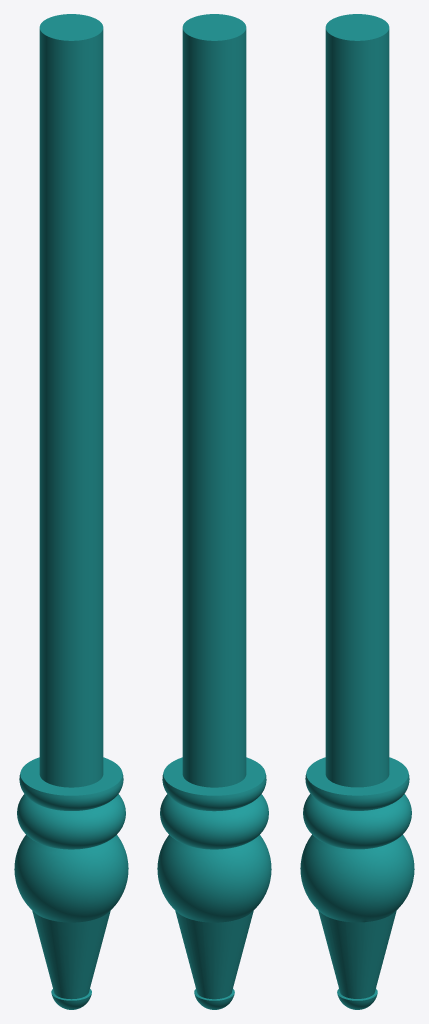
File: original-28.obj
3 renders of one model, left to right at view 1: azimuth 90°, elevation 25°; view 2: azimuth 150°, elevation 25°; view 3: azimuth 330°, elevation 25°, orthographic.
Parts seen in each view (by area): view 1: mesh51/mesh51-geometry#mesh51-geometry; view 2: mesh51/mesh51-geometry#mesh51-geometry; view 3: mesh51/mesh51-geometry#mesh51-geometry.
Boxes of the visible parts, bbox=[...] form: mesh51/mesh51-geometry#mesh51-geometry: bbox=[14, 14, 128, 1009]; mesh51/mesh51-geometry#mesh51-geometry: bbox=[157, 14, 271, 1009]; mesh51/mesh51-geometry#mesh51-geometry: bbox=[300, 14, 414, 1009].
Bounding box in the file's own units: 0.00686 × 0.065 × 0.00686.
